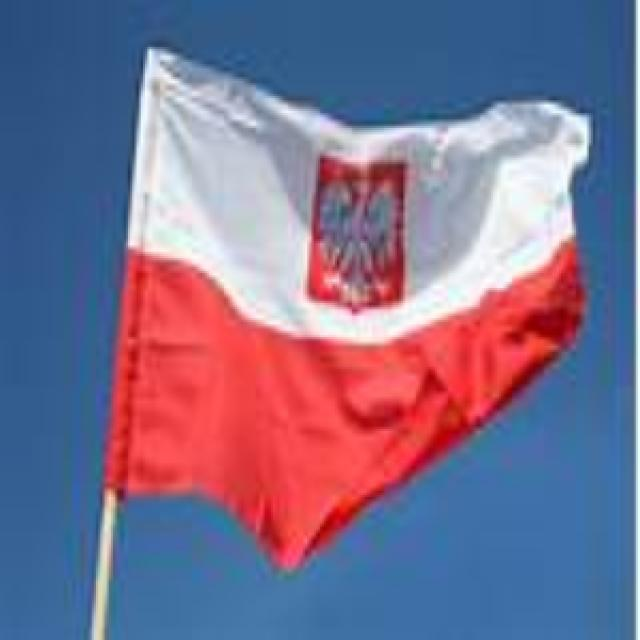poland: (90, 40, 572, 553)
